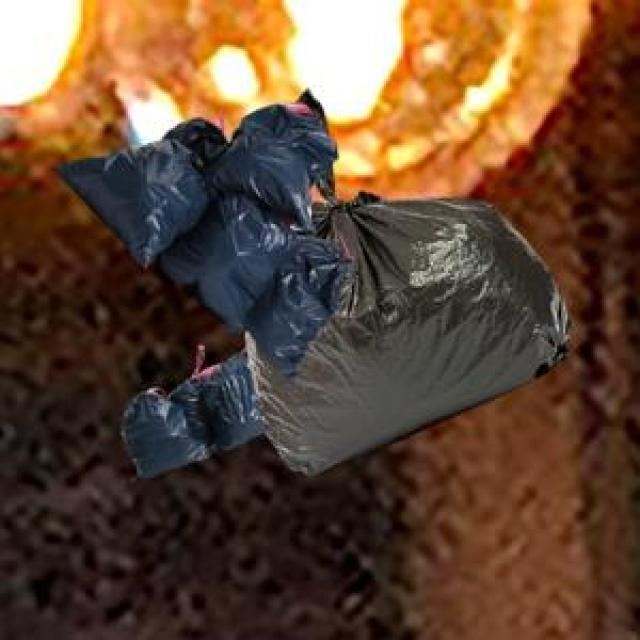waste: (60, 91, 566, 477)
